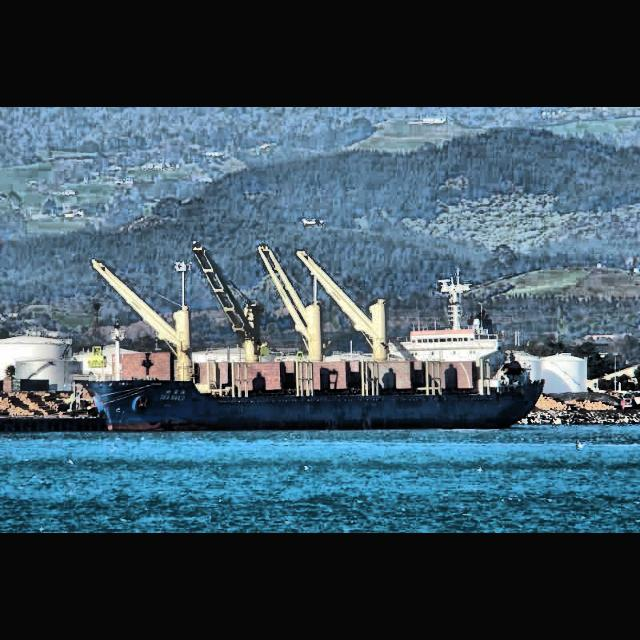bulk_carrier: (78, 240, 546, 434)
